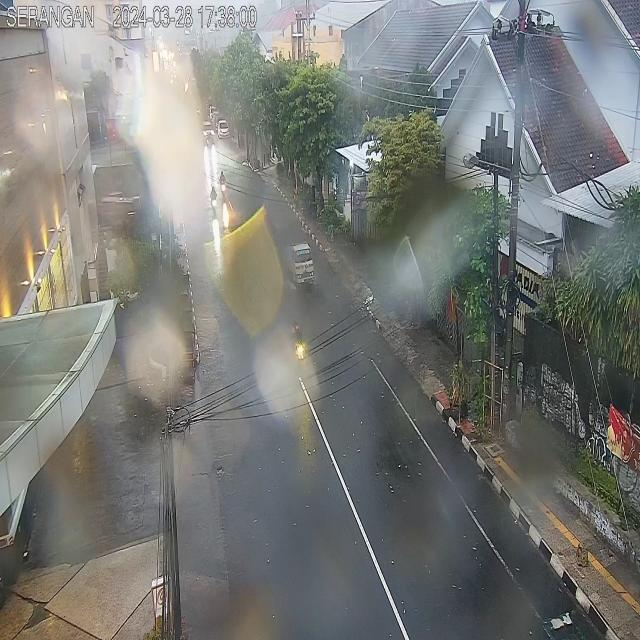motorcycle: (290, 319, 306, 366), (209, 186, 219, 213), (219, 170, 226, 198)
truck: (284, 243, 314, 289)
